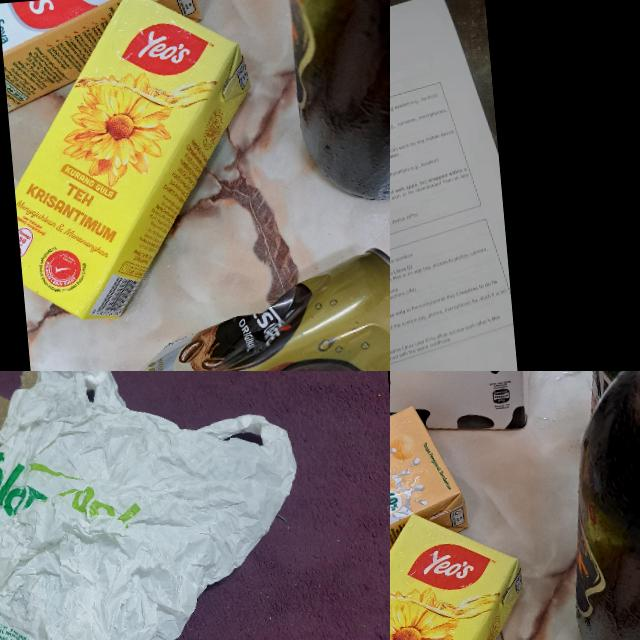caixinha: (0, 0, 271, 327), (0, 0, 211, 112), (390, 504, 545, 640), (390, 402, 479, 629), (390, 371, 546, 442)
garrafa de vidro: (548, 371, 640, 640), (287, 0, 390, 208)
lata: (93, 242, 390, 371)
papel: (390, 0, 524, 371)
sacola plástica: (0, 371, 323, 640)
